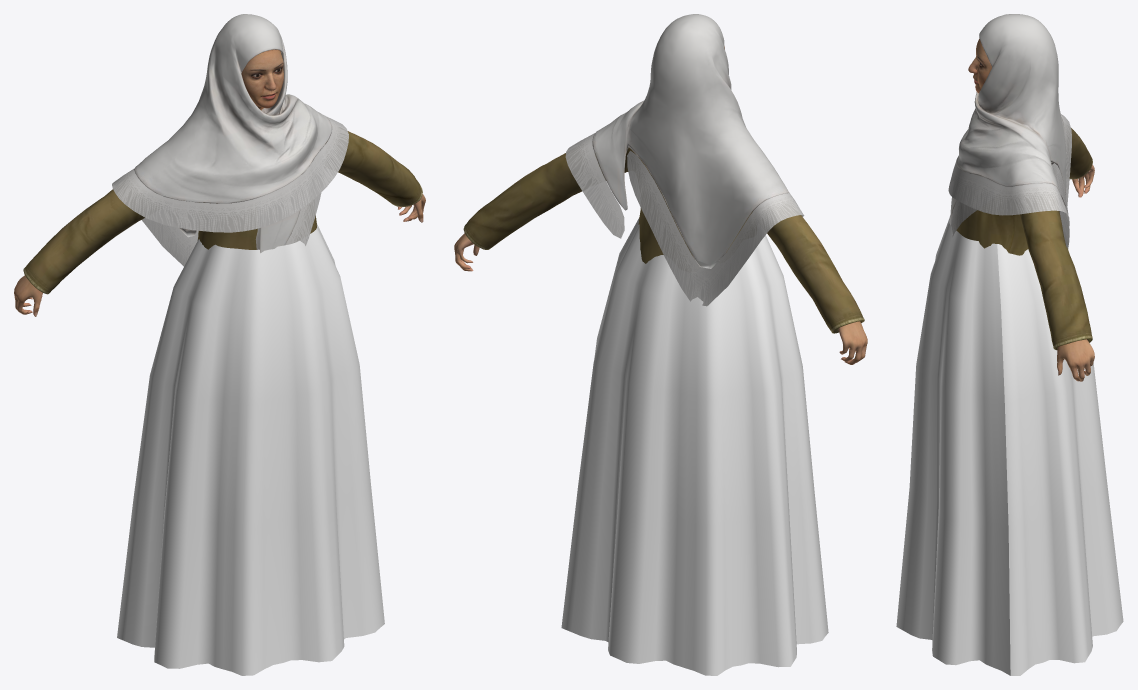
File: statue.glb
3 views of the same model, side by side, from view 1: azimuth 30°, elevation 25°; view 2: azimuth 150°, elevation 25°; view 3: azimuth 270°, elevation 25° (orthographic).
Parts seen in each view (by area): view 1: statue; view 2: statue; view 3: statue.
Boxes of the visible parts, x1,y1,x2,y2 form: statue: (14, 14, 425, 675); statue: (454, 14, 867, 675); statue: (896, 14, 1123, 675).
Size of the model in its own units: 1.22 by 1.73 by 0.5947.
4 materials, 3 textured.
